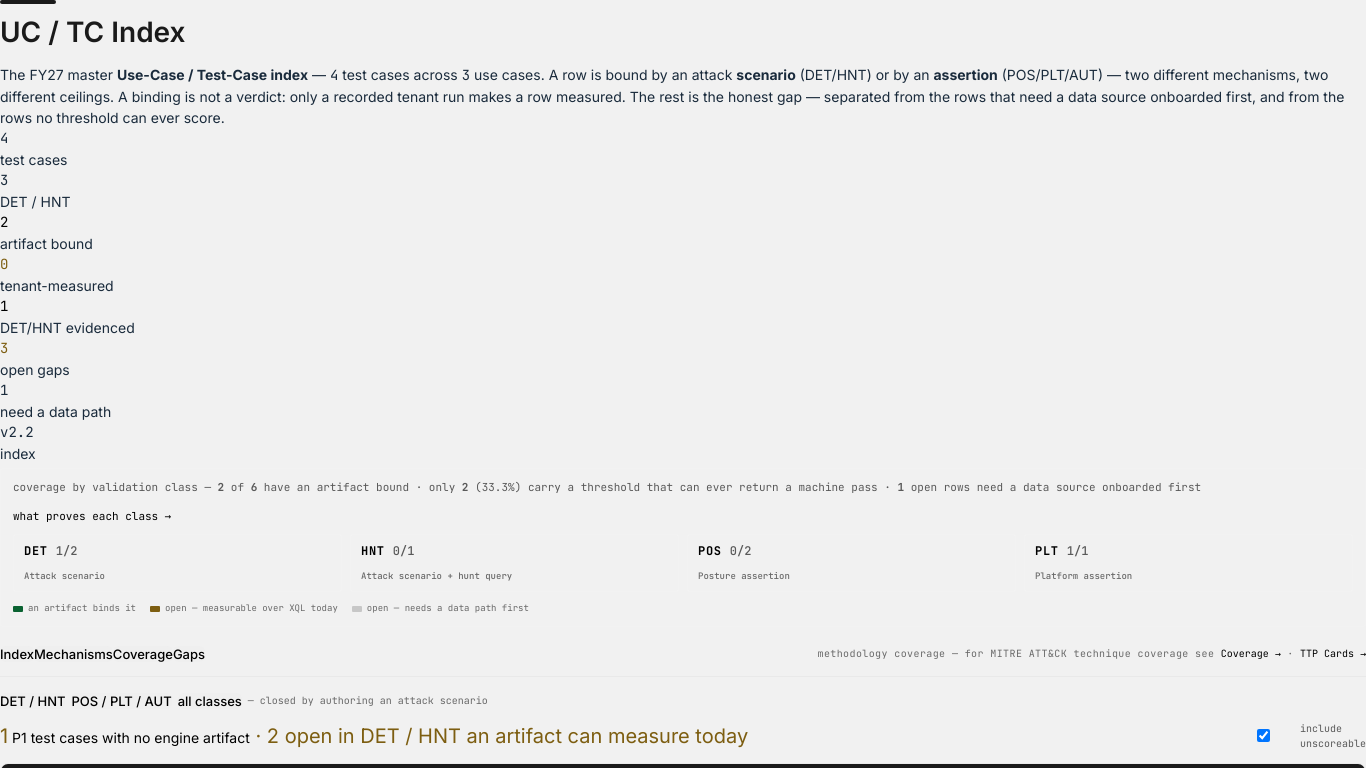
UcTcIndexView — the honest backlog › sizes the blocked rows apart from the work that can start today
This screenshot has width=1366, height=768.
Click the button with test id "uctc-gapscope-assertion".
click(122, 701)  # box top-left (72, 693), bottom-right (172, 709)
(page scrolled)
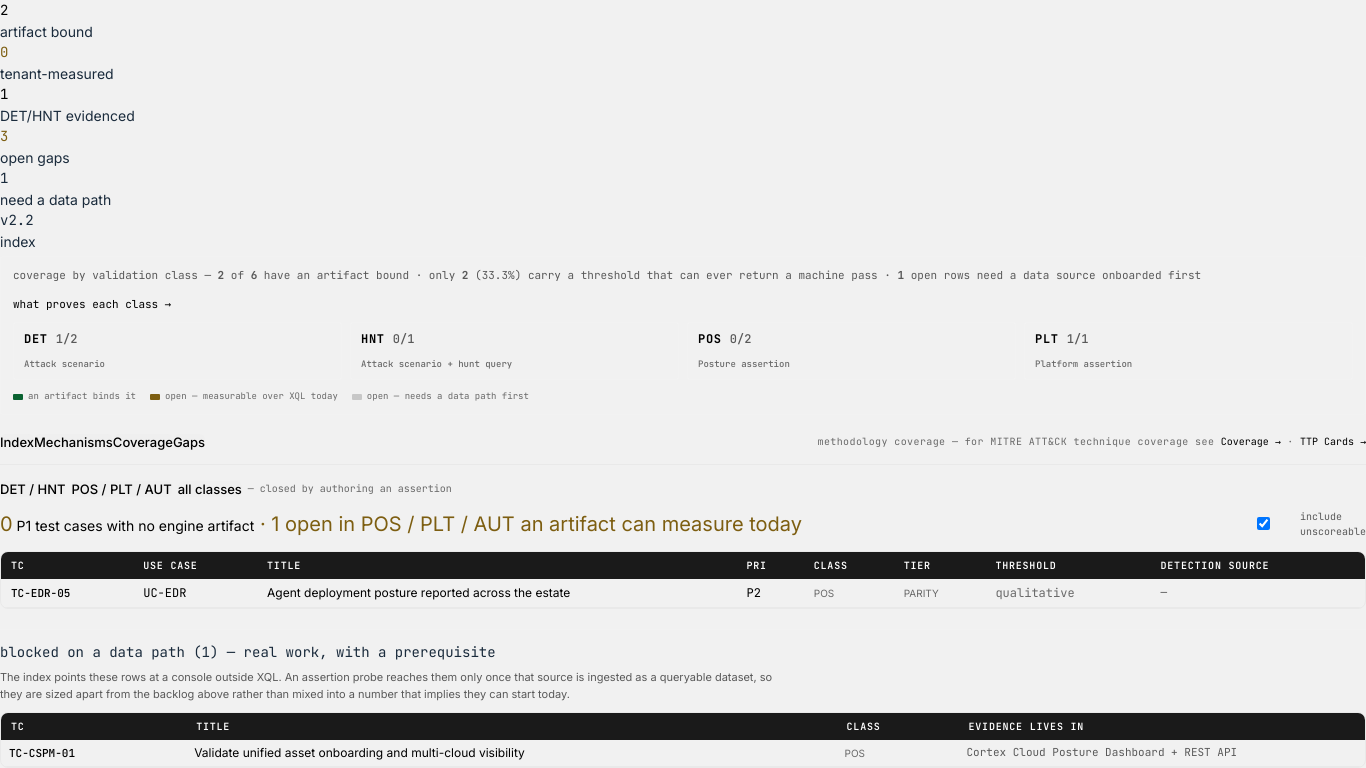
Result: the element with test id "uctc-gaps-blocked" is shown at top-left (0, 629), bottom-right (1365, 767)
Result: the element with test id "uctc-gaps-blocked" shows "blocked on a data path" at top-left (0, 643), bottom-right (202, 661)
Result: the button with test id "uctc-blockedgap-TC-CSPM-01" is shown at top-left (9, 746), bottom-right (75, 760)
